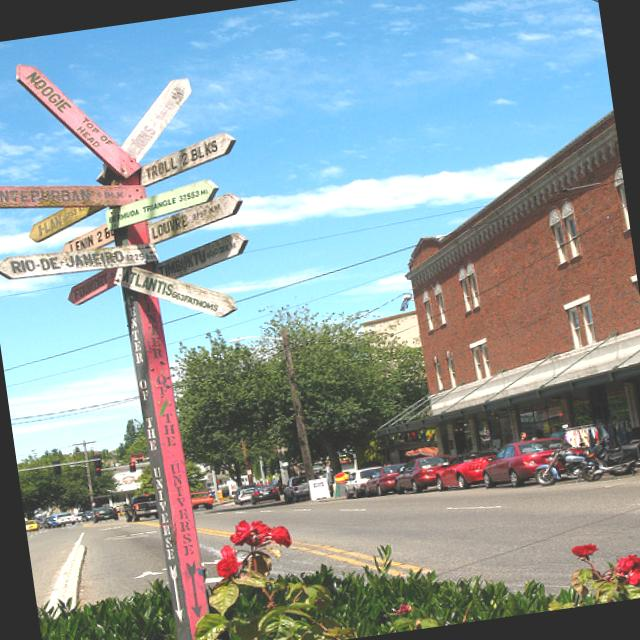Vehicle: (481, 435, 577, 492), (530, 438, 592, 488), (389, 452, 456, 497), (431, 451, 500, 493), (577, 438, 640, 482), (361, 462, 413, 498), (340, 466, 386, 500), (282, 475, 310, 503), (248, 483, 281, 506), (190, 490, 216, 512), (231, 484, 256, 506), (633, 415, 640, 484), (92, 506, 118, 524), (24, 515, 40, 532)
